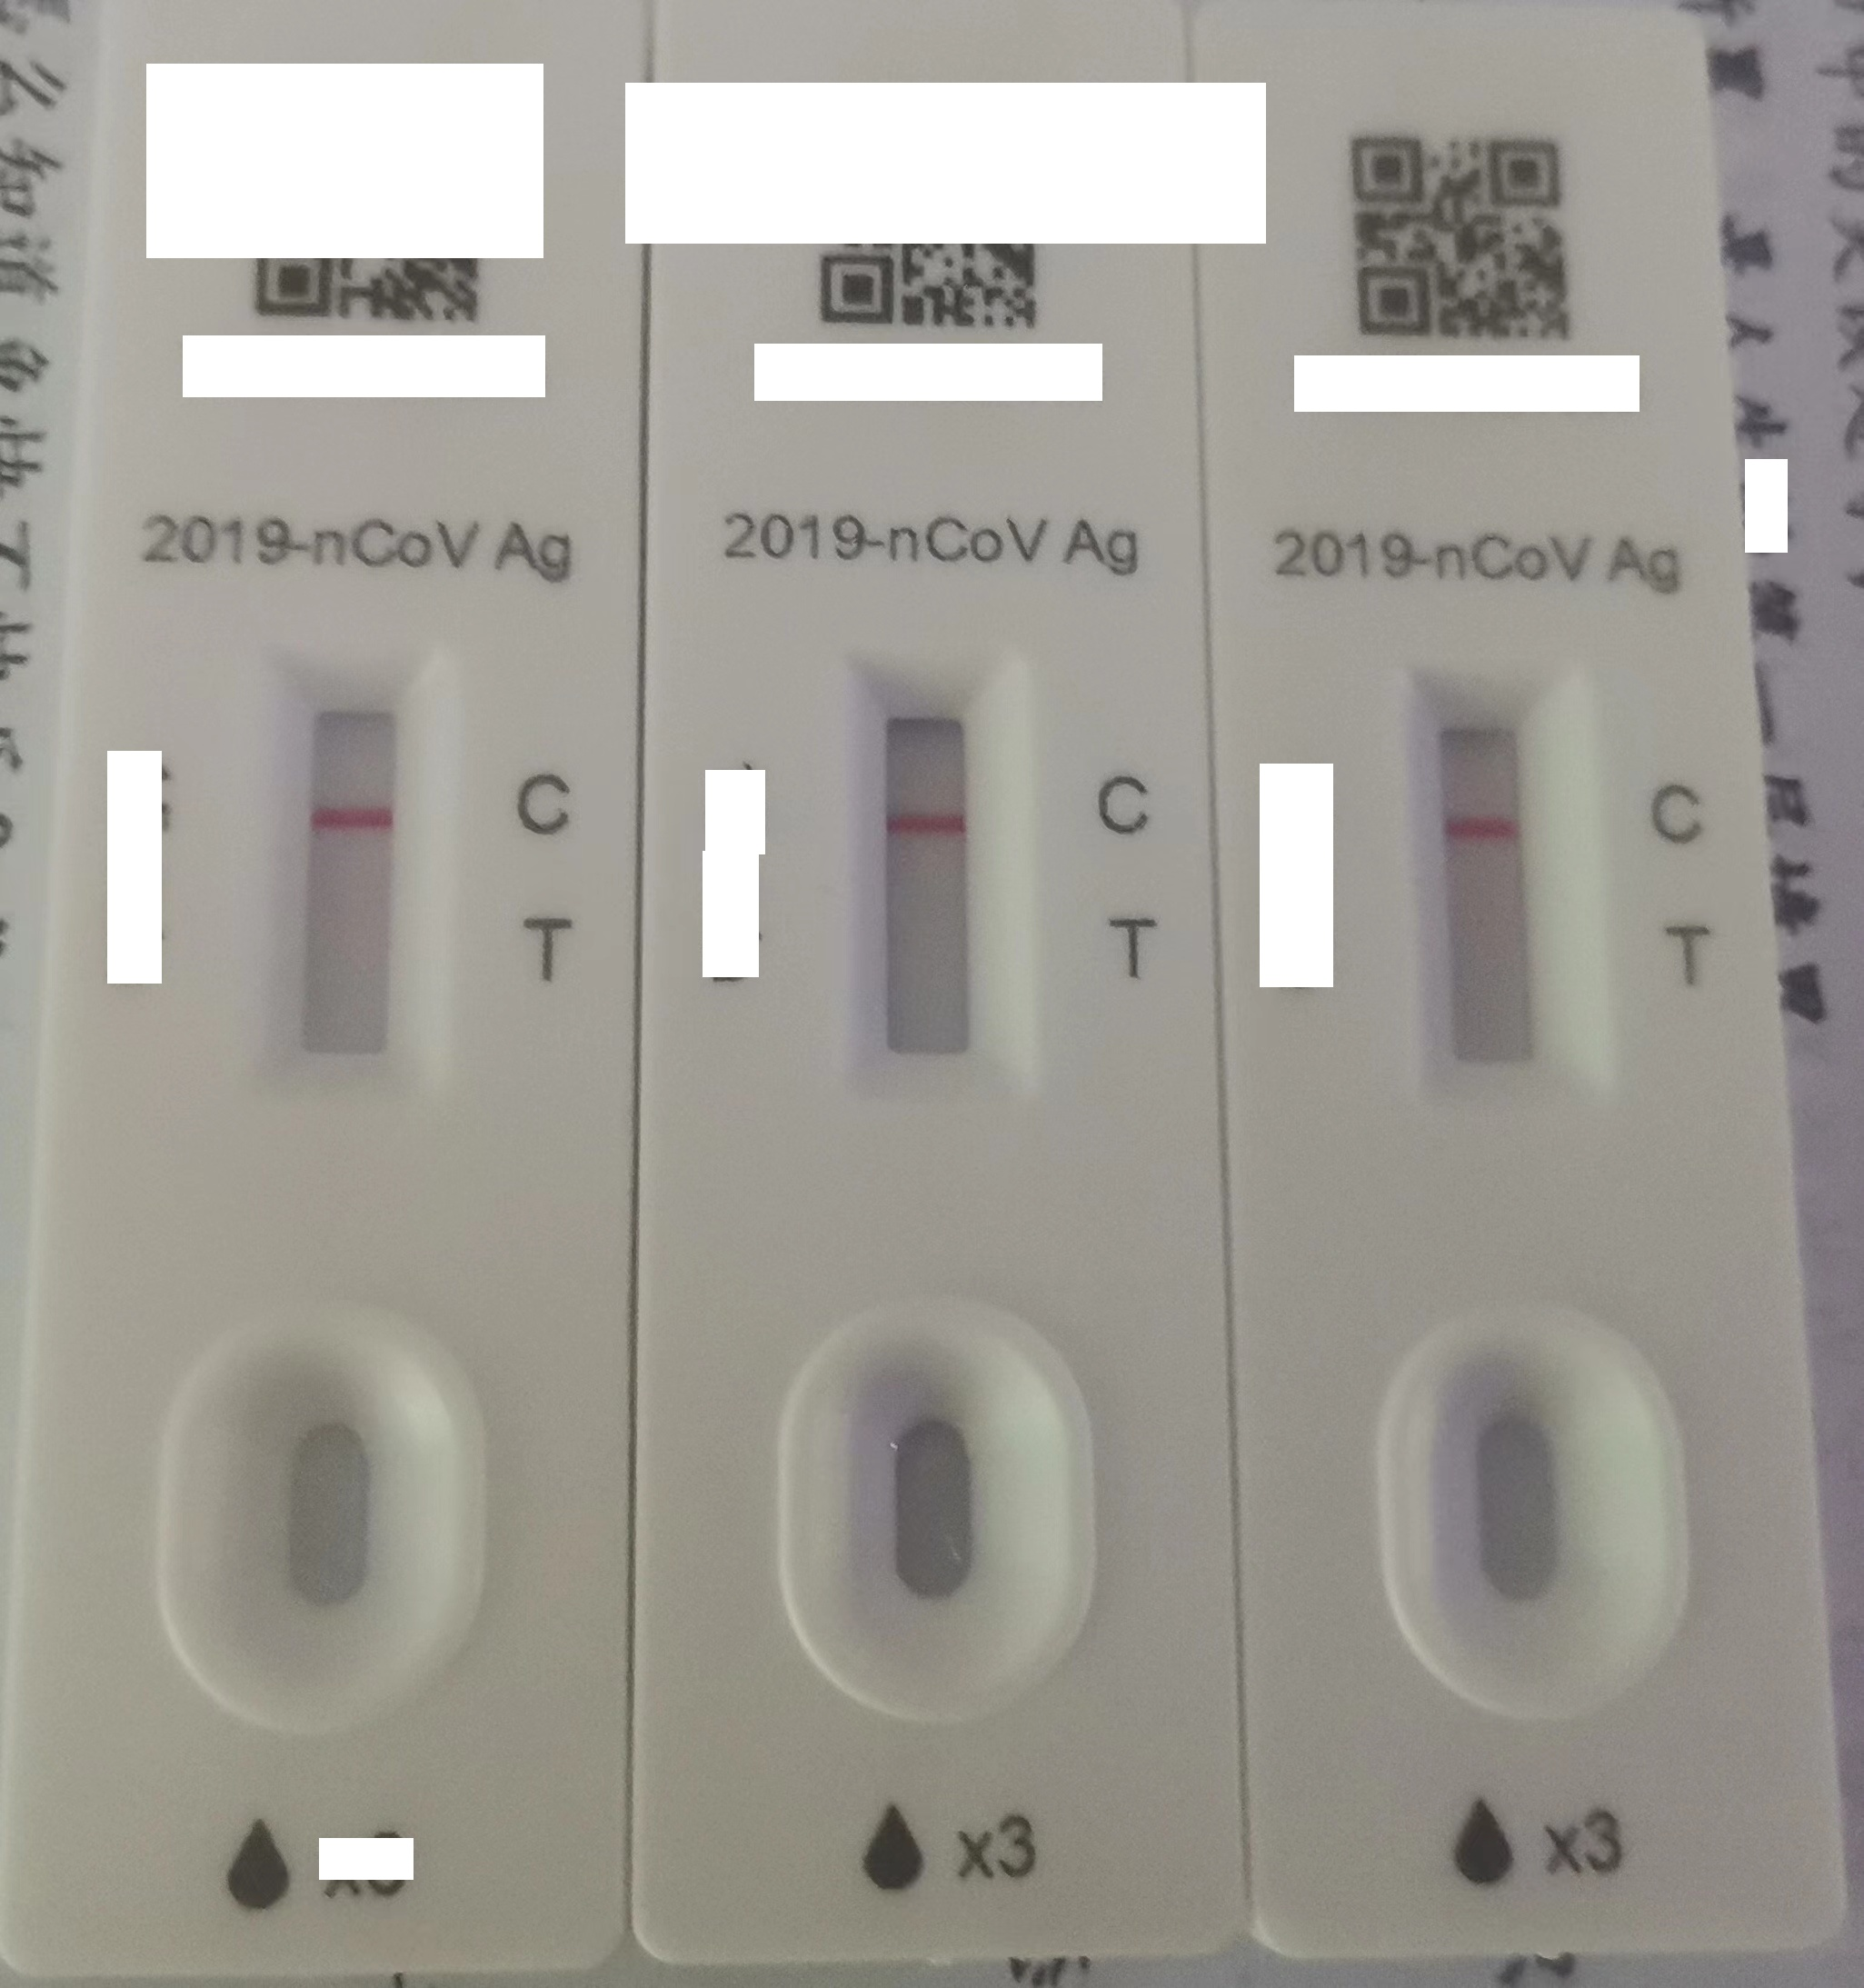negative: (1412, 676, 1564, 1107), (273, 664, 424, 1098), (857, 673, 997, 1088)
